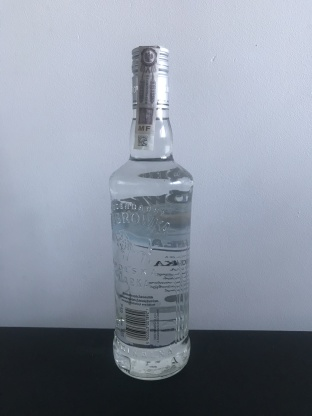nakretka: (129, 41, 171, 112)
